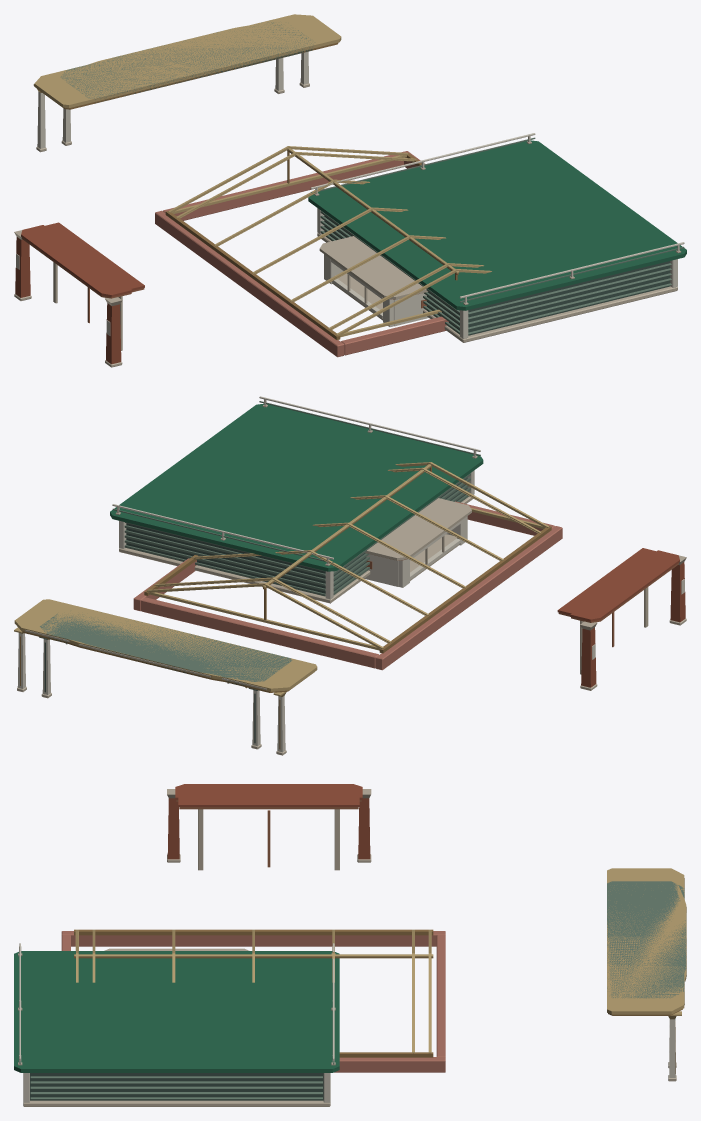
File: civic.glb
3 renders of one model, top to bottom at view 1: azimuth 30°, elevation 25°; view 2: azimuth 150°, elevation 25°; view 3: azimuth 270°, elevation 25°, orthographic. The views are drawn at different scales.
Visible parts, largest first — view 1: HospitalServiceScreen, MallSkylightFrame, MallEntry, SchoolEntry, HospitalEntry, SchoolClerestoryFrame; view 2: HospitalServiceScreen, MallSkylightFrame, MallEntry, HospitalEntry, SchoolEntry, SchoolClerestoryFrame; view 3: HospitalServiceScreen, MallSkylightFrame, MallEntry, HospitalEntry, SchoolEntry.
Boxes of the visible parts, x1,y1,x2,y2 form: HospitalServiceScreen: [308, 133, 686, 342]; MallSkylightFrame: [155, 146, 491, 357]; MallEntry: [33, 14, 341, 152]; SchoolEntry: [14, 222, 144, 367]; HospitalEntry: [60, 20, 315, 145]; SchoolClerestoryFrame: [319, 236, 428, 326]; HospitalServiceScreen: [110, 396, 483, 603]; MallSkylightFrame: [133, 462, 562, 670]; MallEntry: [14, 599, 317, 755]; HospitalEntry: [39, 613, 292, 749]; SchoolEntry: [557, 548, 686, 690]; SchoolClerestoryFrame: [364, 498, 471, 587]; HospitalServiceScreen: [14, 943, 339, 1106]; MallSkylightFrame: [61, 929, 445, 1072]; MallEntry: [607, 868, 686, 1081]; HospitalEntry: [607, 881, 686, 1067]; SchoolEntry: [167, 784, 371, 870].
Bounding box in the file's own units: 20.05 × 2.6 × 21.9.
